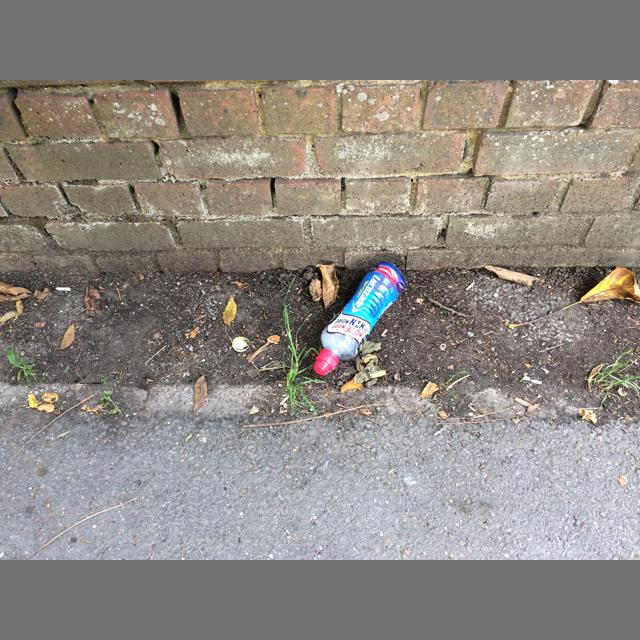litter: (314, 261, 406, 375), (232, 336, 250, 352), (55, 287, 71, 291)
